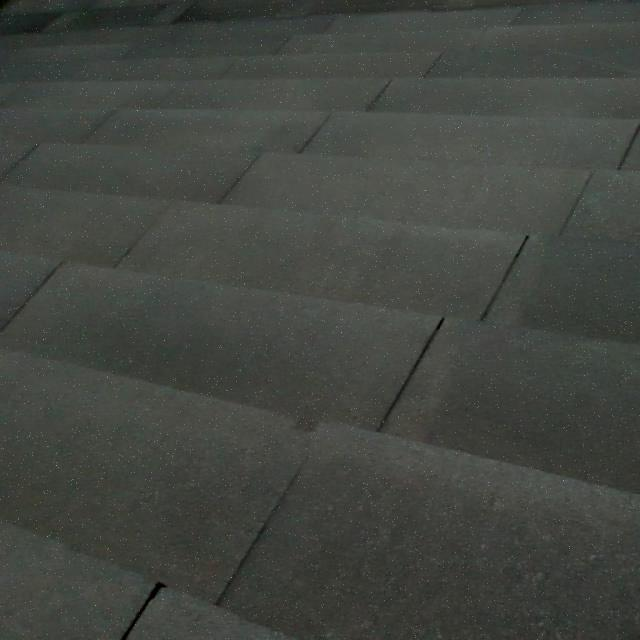stair: (0, 1, 638, 618)
